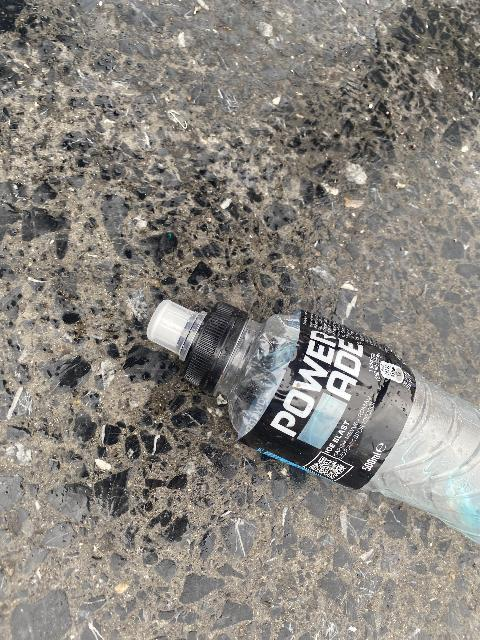Plastik: (154, 295, 480, 546)
